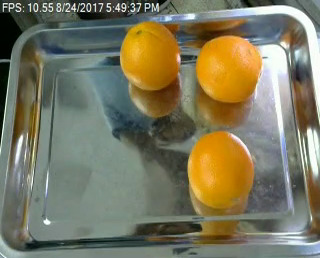Orange: (187, 130, 255, 208), (195, 35, 261, 103), (120, 20, 182, 90)
